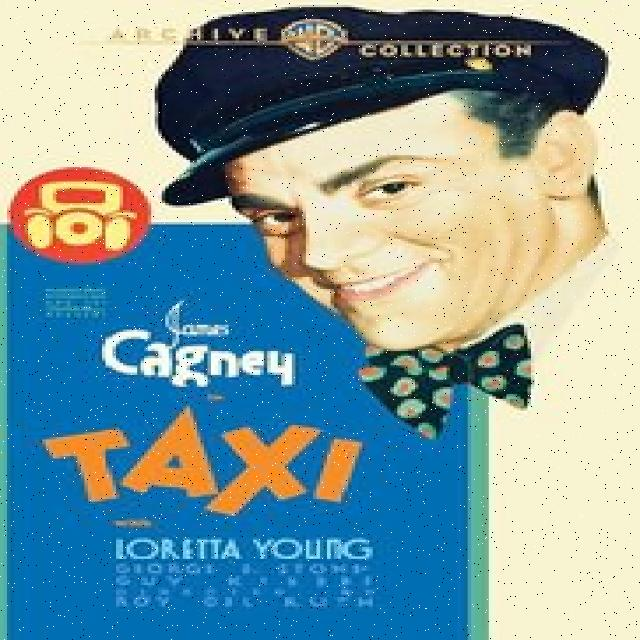movie-judul: (14, 273, 410, 626)
picture: (19, 19, 636, 431)
